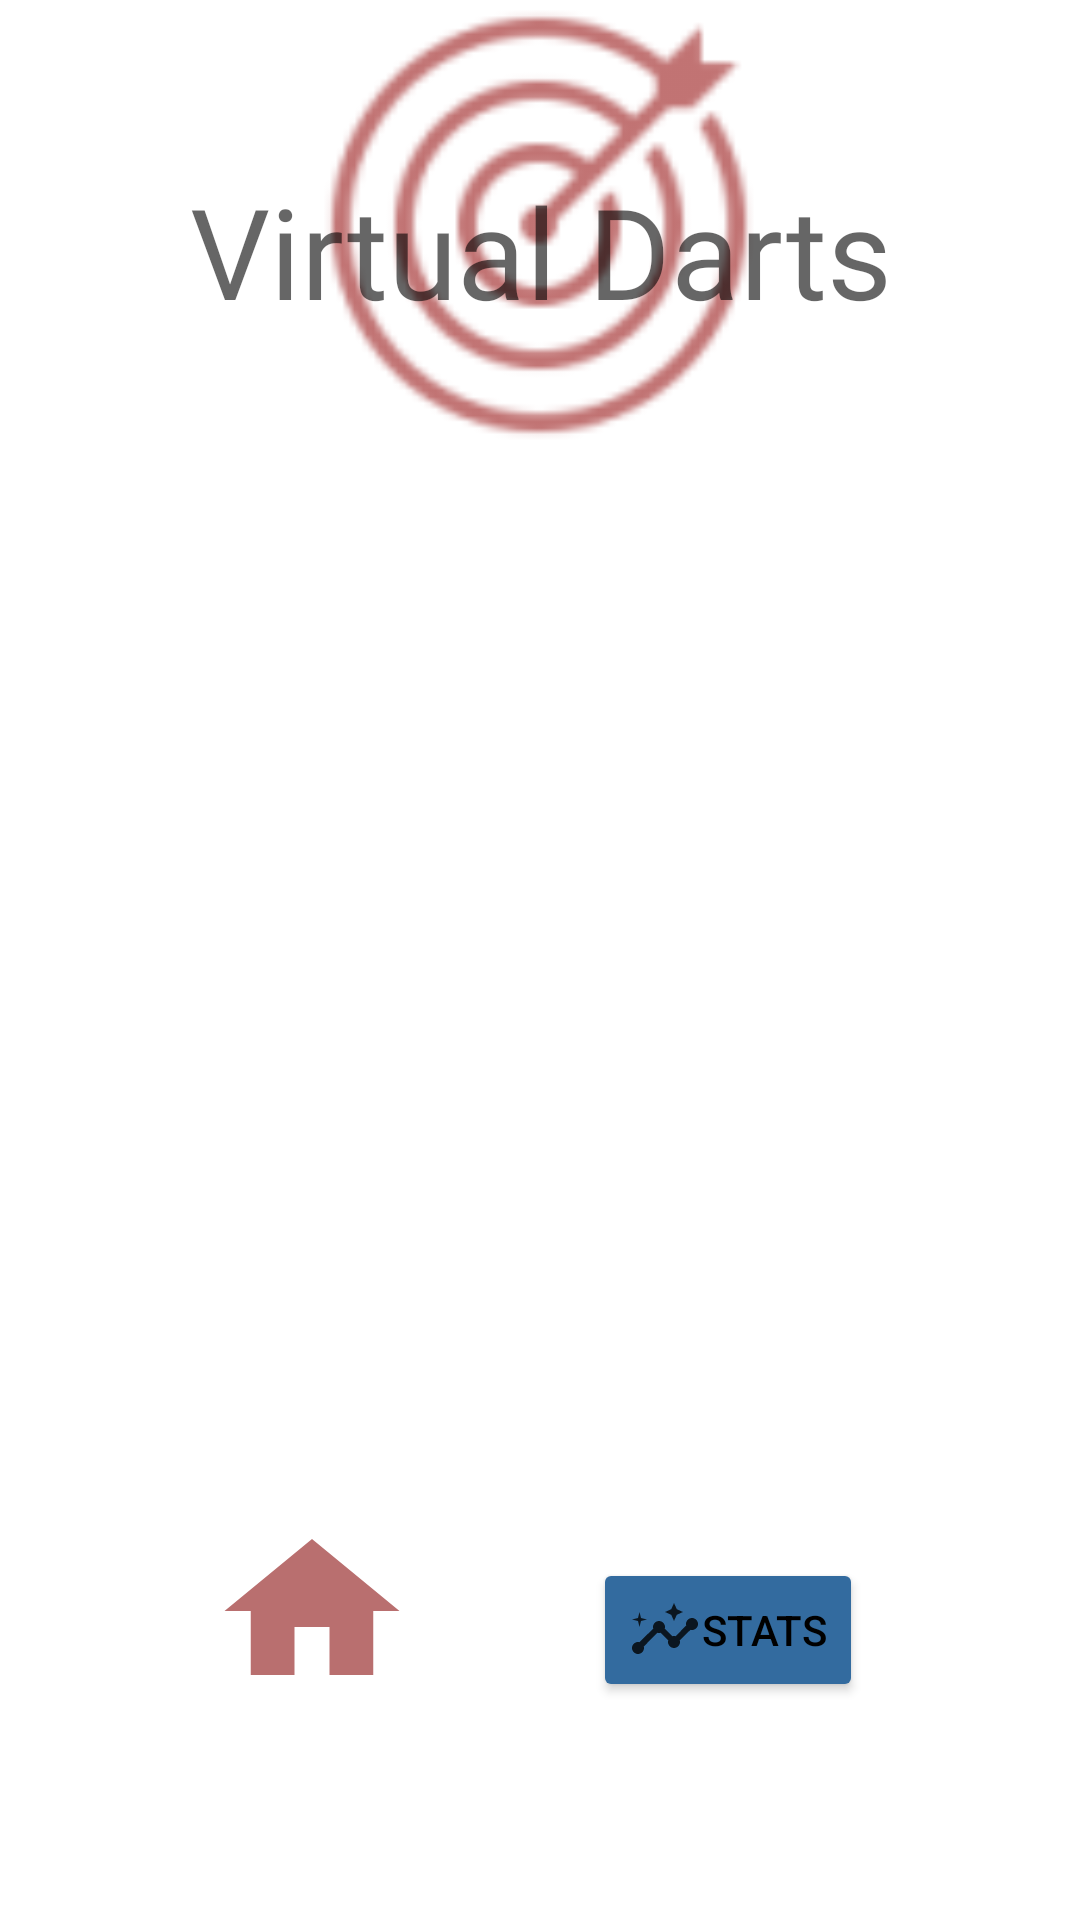

Named icons in this screenshot (1080x1920) and their bounding boxes, (x1, y1, x2, y2):
home: (225, 1539, 399, 1675)
